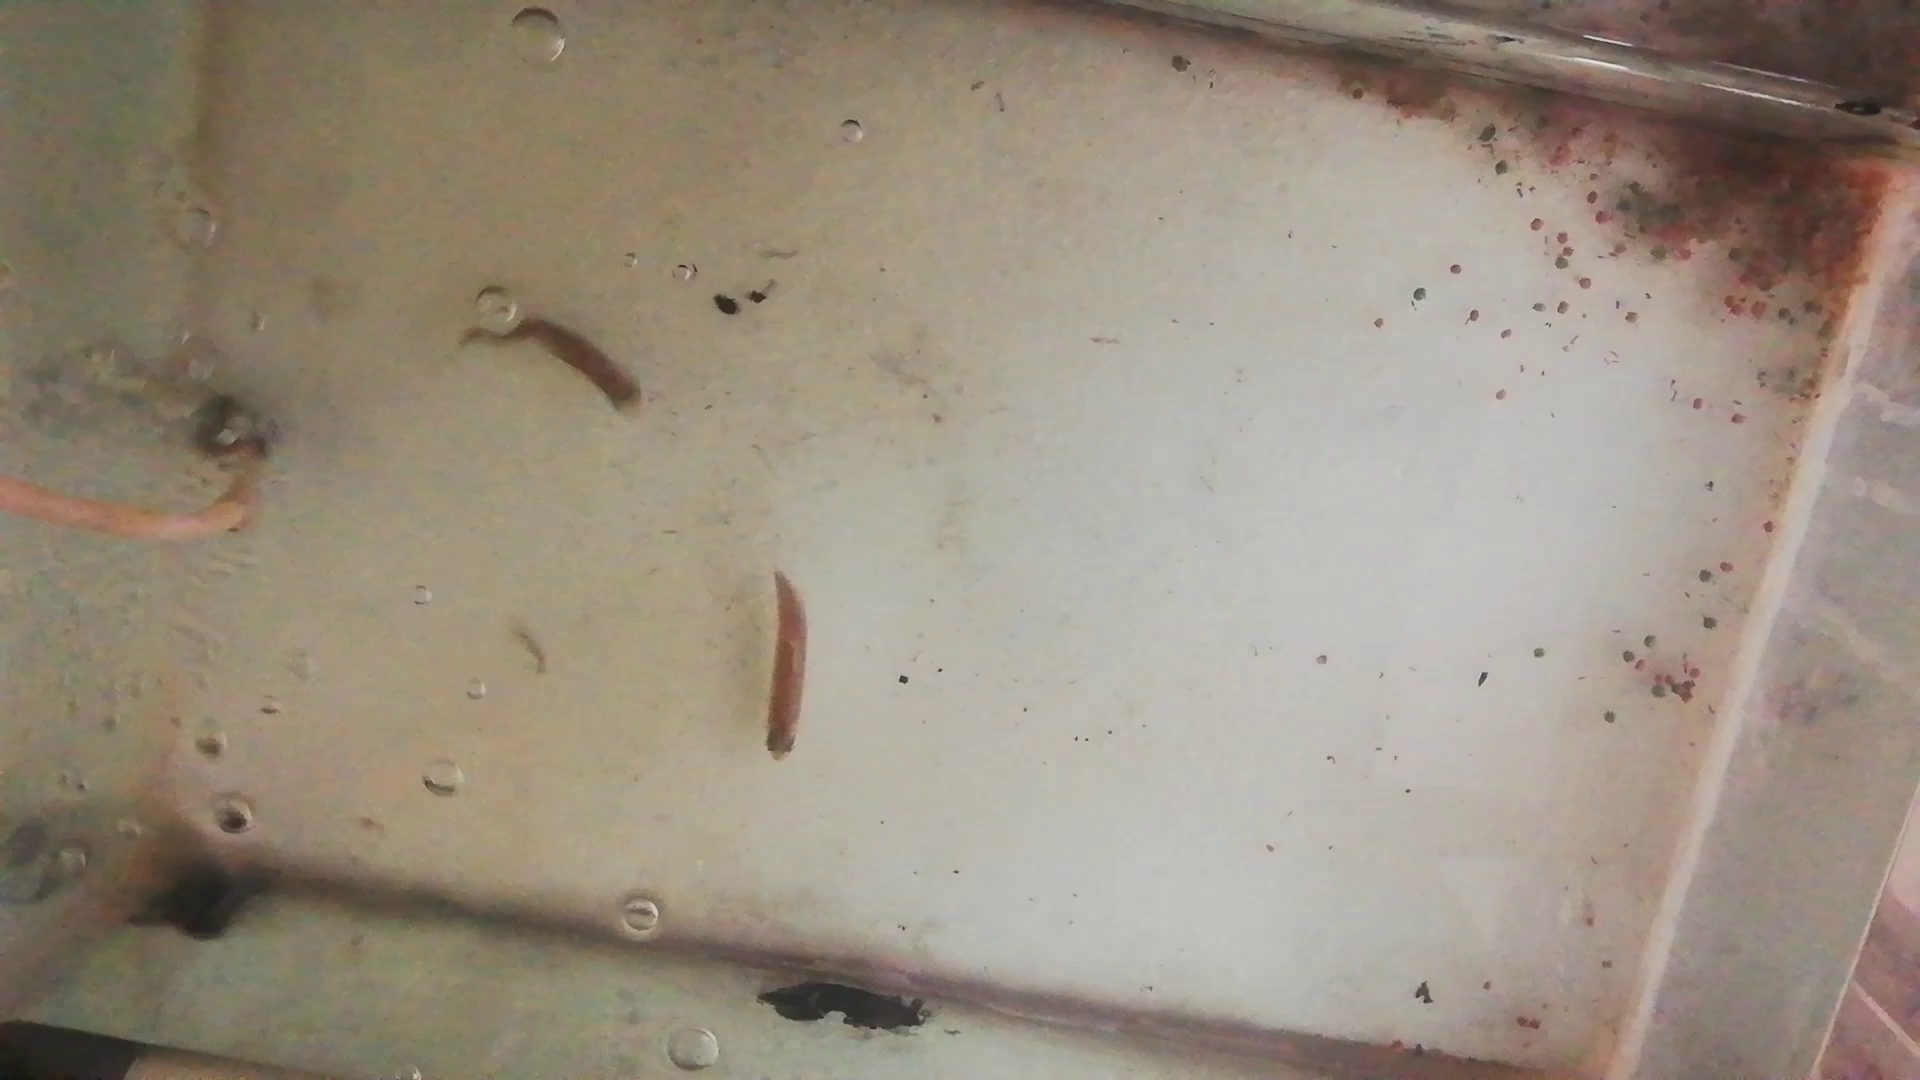fish: (454, 311, 646, 415), (760, 574, 818, 764)
